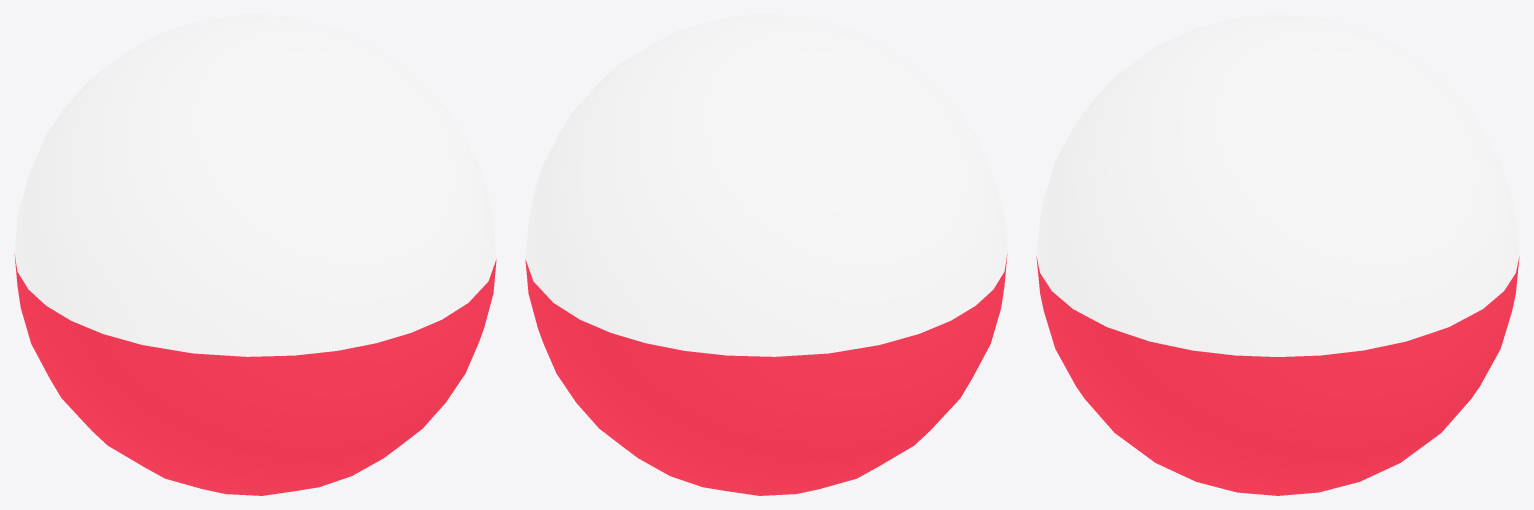
The picture shows the model from 3 angles, left to right: view 1: azimuth 30°, elevation 25°; view 2: azimuth 150°, elevation 25°; view 3: azimuth 270°, elevation 25°; orthographic projection.
Visible parts, largest first — view 1: Roundcube.001; view 2: Roundcube.001; view 3: Roundcube.001.
Boxes of the visible parts, box(x1,y1,x2,y2) form: Roundcube.001: box(14, 14, 496, 495); Roundcube.001: box(525, 14, 1007, 495); Roundcube.001: box(1036, 14, 1519, 495).
Size of the model in its own units: 1.71 by 1.71 by 1.71.
